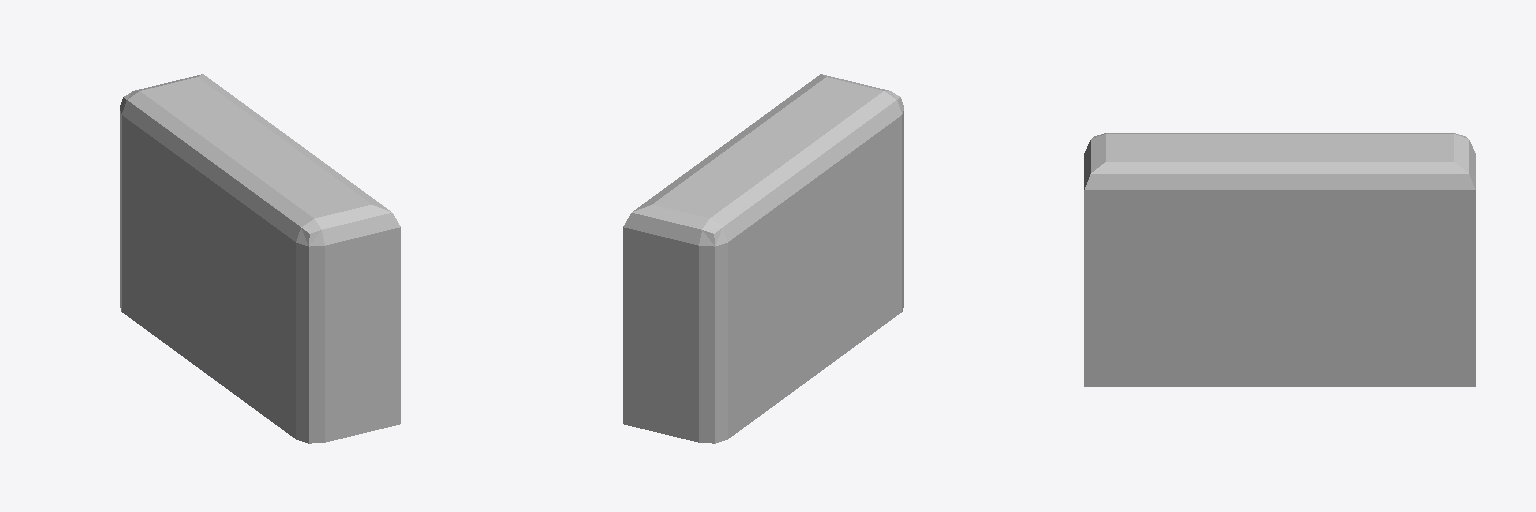
The model's file is couch_ArmRest_1.obj.
The picture shows the model from 3 angles: view 1: azimuth 30°, elevation 25°; view 2: azimuth 150°, elevation 25°; view 3: azimuth 270°, elevation 25°; orthographic projection.
Bounding box in the file's own units: 2.21 × 4.85 × 7.94.